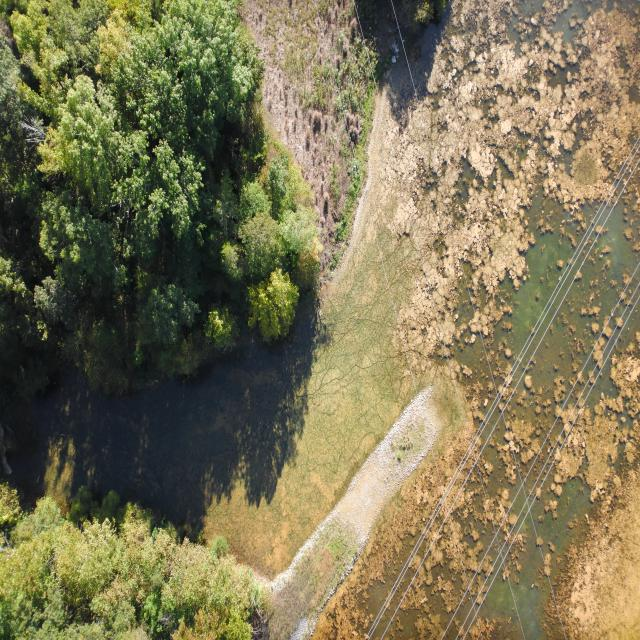Area of Interest: (6, 0, 305, 349), (0, 508, 250, 638)
